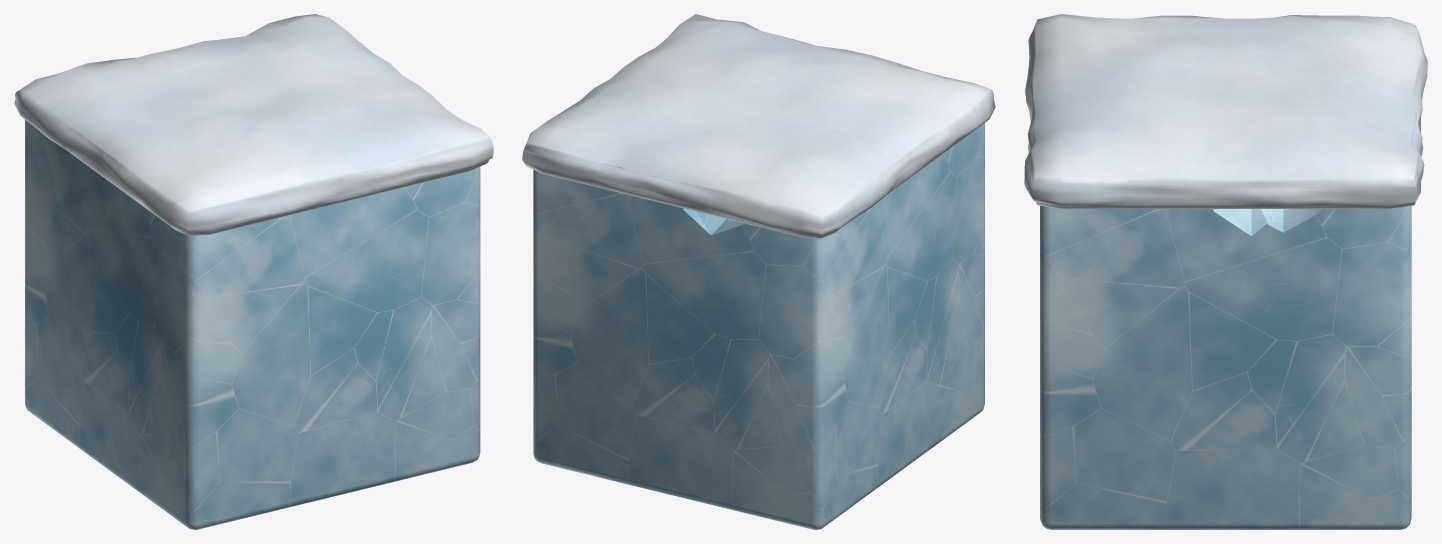
File: SM_IceBlock_200_SnowCap.fbx
The picture shows the model from 3 angles, left to right: view 1: azimuth 30°, elevation 25°; view 2: azimuth 150°, elevation 25°; view 3: azimuth 270°, elevation 25°; orthographic projection. The views are drawn at different scales.
Visible parts, largest first — view 1: SM_IceBlock_200_SnowCap; view 2: SM_IceBlock_200_SnowCap; view 3: SM_IceBlock_200_SnowCap.
Part boxes in pixels (<box>): SM_IceBlock_200_SnowCap: <box>14,14,493,529</box>; SM_IceBlock_200_SnowCap: <box>522,14,995,529</box>; SM_IceBlock_200_SnowCap: <box>1024,14,1427,529</box>.
Size of what is drawn, in the model's own units: 217 by 217 by 227.
